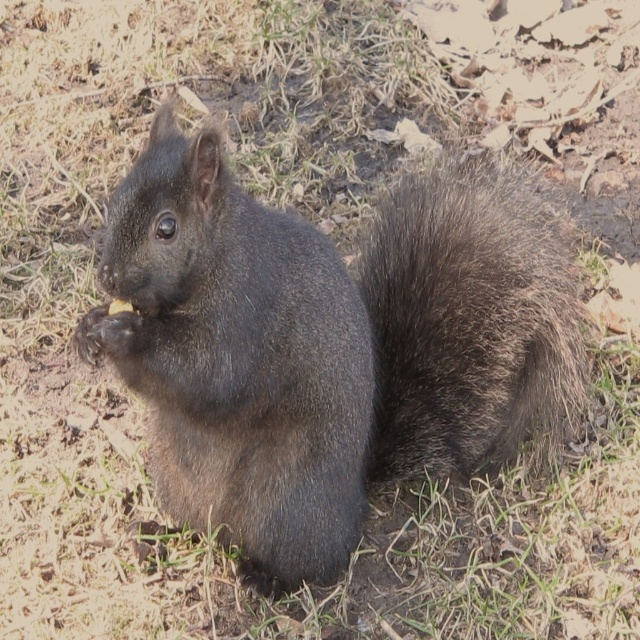Squirrel: (73, 102, 593, 603)
